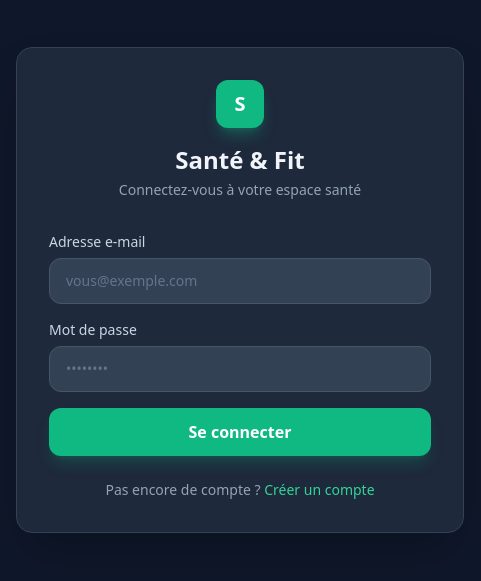
Test: LoginPage › Validation du formulaire › affiche une erreur si seulement le mot de passe est vide
This screenshot has width=481, height=581.
Type "test@test.com" into the field labelled "Adresse e-mail" at [240, 281], box [49,258,431,304]
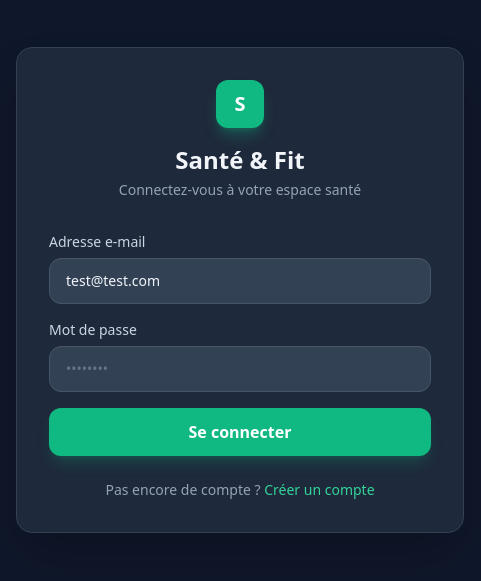
Click the button "Se connecter" at [240, 432], box [49,408,431,456]
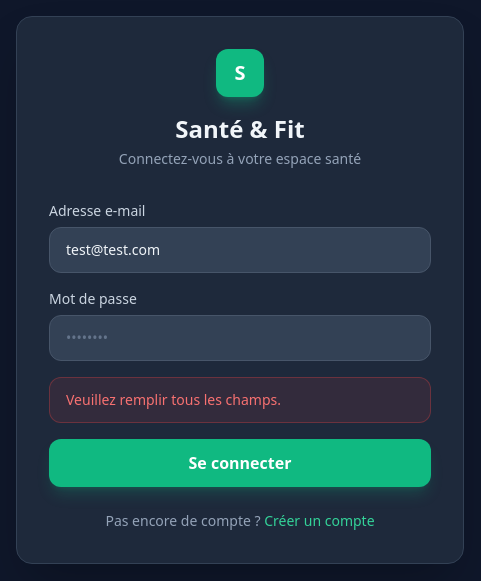
Result: the text "Veuillez remplir tous les champs." is shown at [49,377,431,423]
